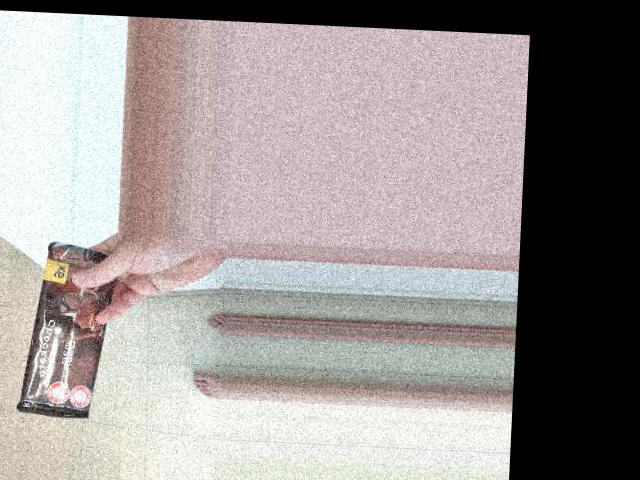chocolate: (17, 236, 136, 420)
